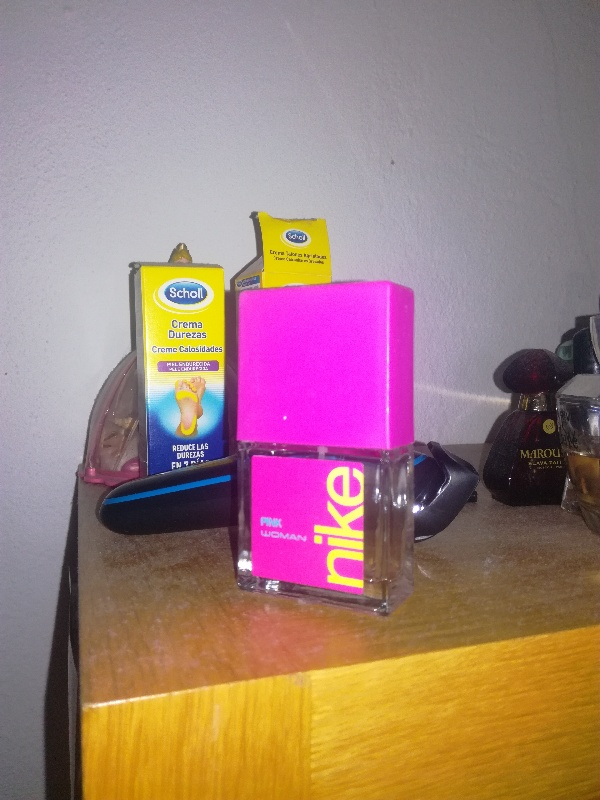beard trimmer: (100, 442, 481, 540)
